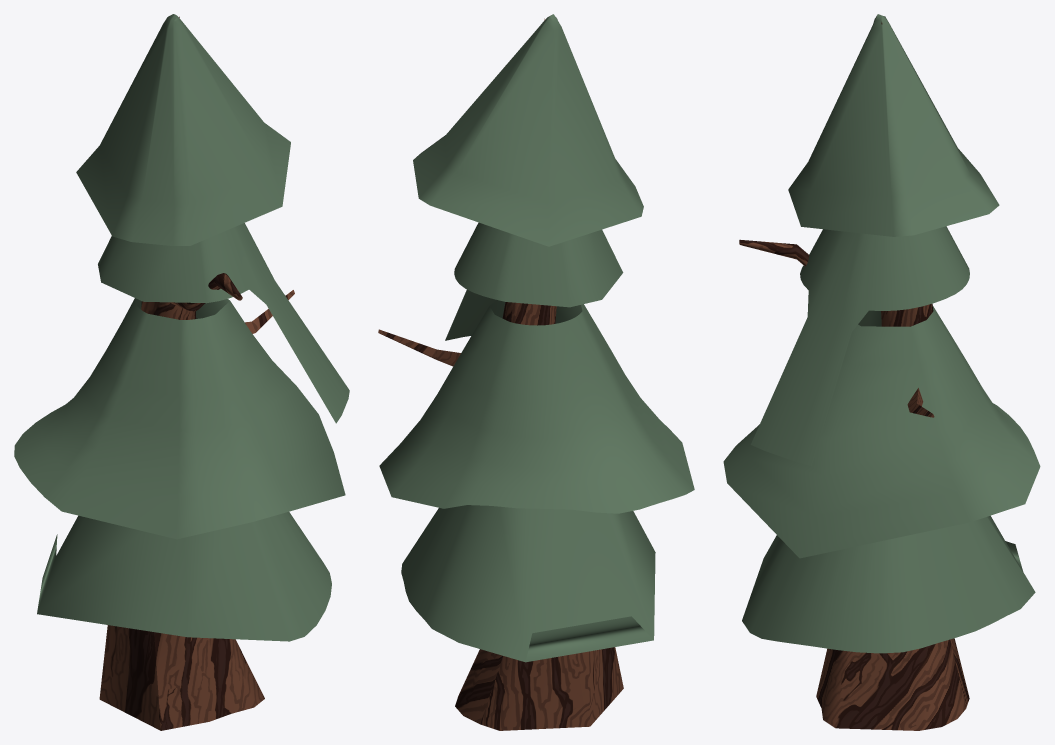
File: Low tree 3.fbx
3 renders of one model, left to right at view 1: azimuth 30°, elevation 25°; view 2: azimuth 150°, elevation 25°; view 3: azimuth 270°, elevation 25°, orthographic.
Visible parts, largest first — view 1: Pines_3; view 2: Pines_3; view 3: Pines_3.
Boxes of the visible parts, x1,y1,x2,y2 form: Pines_3: (14,14,349,730); Pines_3: (378,14,694,730); Pines_3: (723,14,1040,730).
Bounding box in the file's own units: 7.5 × 17.57 × 7.42.
